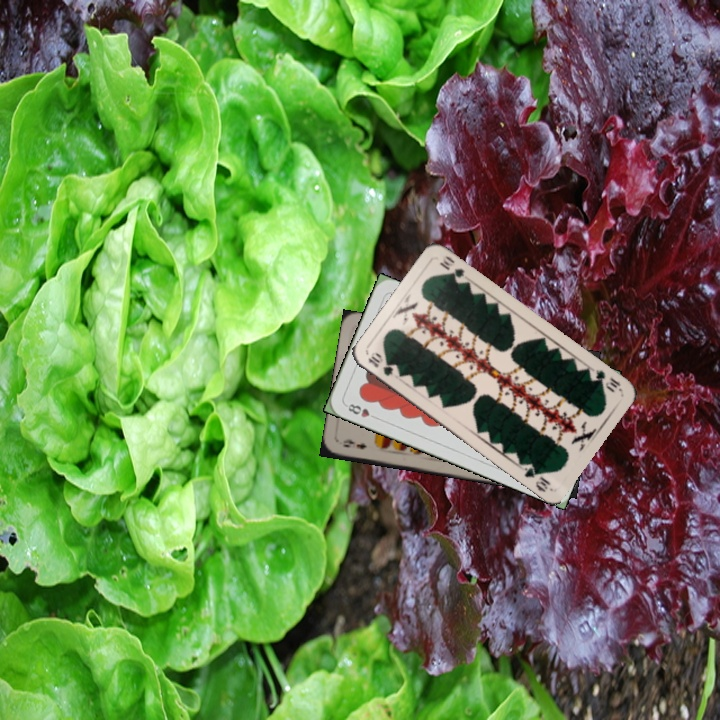E9: (339, 435, 369, 452)
G10: (585, 364, 623, 395), (364, 350, 396, 379)
H8: (342, 400, 380, 422)
